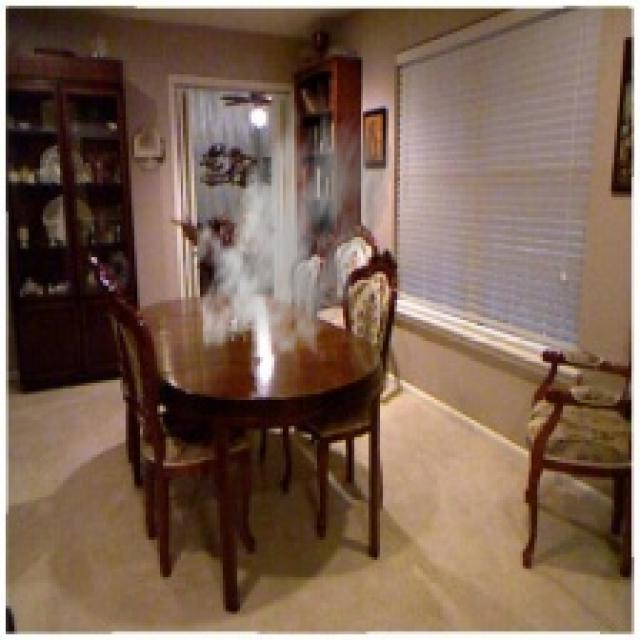smoke: (194, 88, 394, 366)
